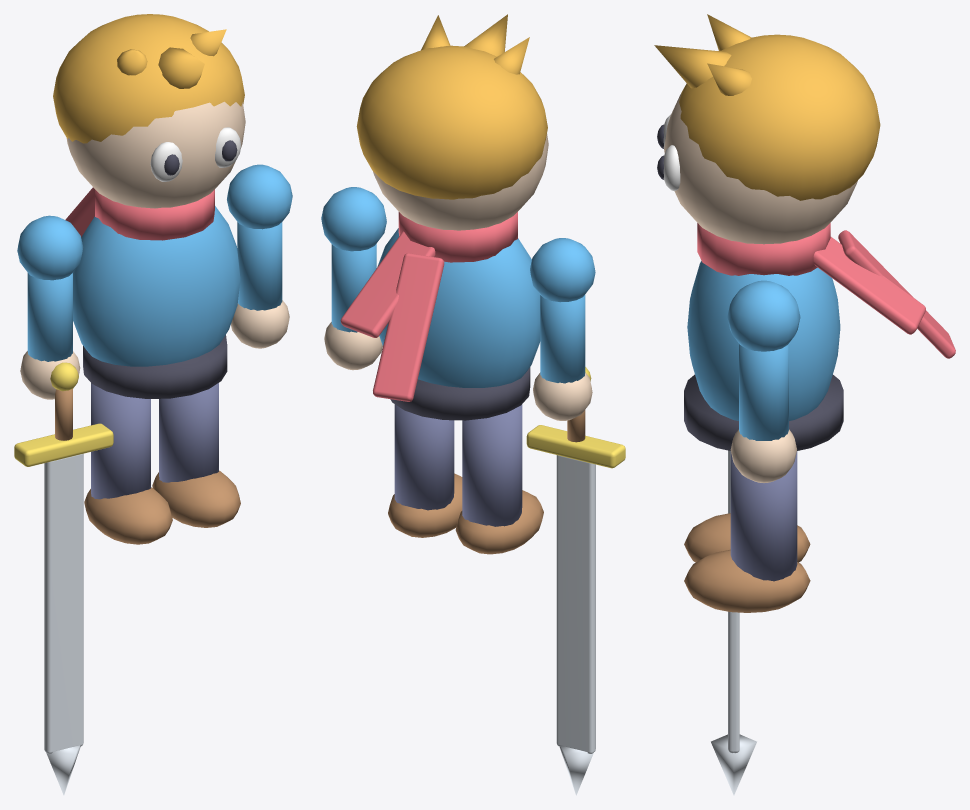
Rendered from Hero.fbx.
The picture shows the model from 3 angles, left to right: view 1: azimuth 30°, elevation 25°; view 2: azimuth 150°, elevation 25°; view 3: azimuth 270°, elevation 25°; orthographic projection. The views are drawn at different scales.
Visible parts, largest first — view 1: Head, Body, Sword, LegR, ArmL, LegL, ArmR; view 2: Body, Head, Sword, LegR, ArmR, LegL, ArmL; view 3: Head, Body, LegL, ArmL, Sword, LegR.
Part boxes in pixels (x1,y1,x2,y2): Head: (53,14,245,208); Body: (65,187,240,398); Sword: (14,362,113,795); LegR: (84,383,172,544); ArmL: (227,164,292,348); LegL: (152,383,240,527); ArmR: (17,215,83,399); Body: (340,212,540,420); Head: (356,14,548,230); Sword: (526,367,625,795); LegR: (455,404,543,554); ArmR: (530,238,595,420); LegL: (388,404,462,537); ArmL: (321,187,386,370); Head: (654,14,880,244); Body: (684,223,955,450); LegL: (684,451,810,612); ArmL: (727,280,800,482); Sword: (711,450,756,795); LegR: (684,513,810,562).
Size of the model in its own units: 1.08 by 2.7 by 0.9065.
